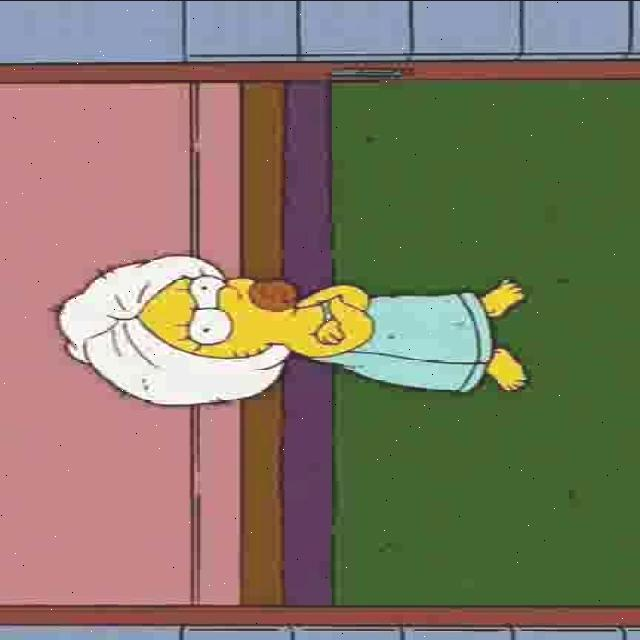Maggie Simpson: (138, 272, 310, 358)
